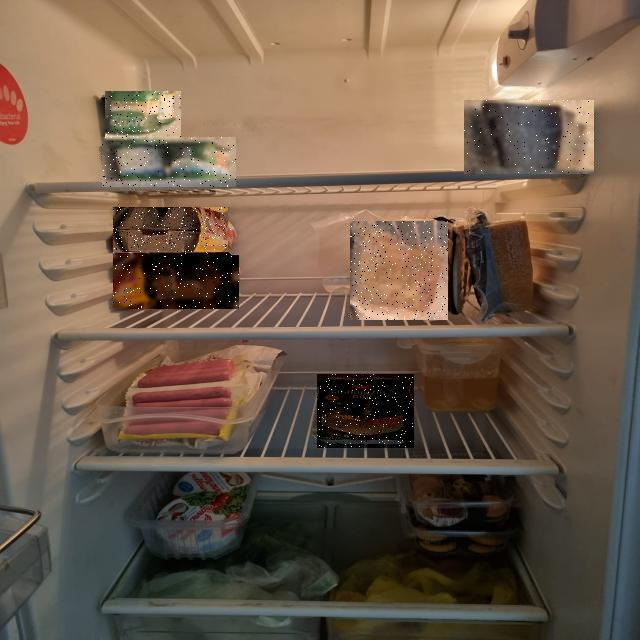cheese: (110, 224, 524, 640), (127, 160, 576, 480)
egg: (0, 154, 232, 463), (0, 133, 230, 399)
